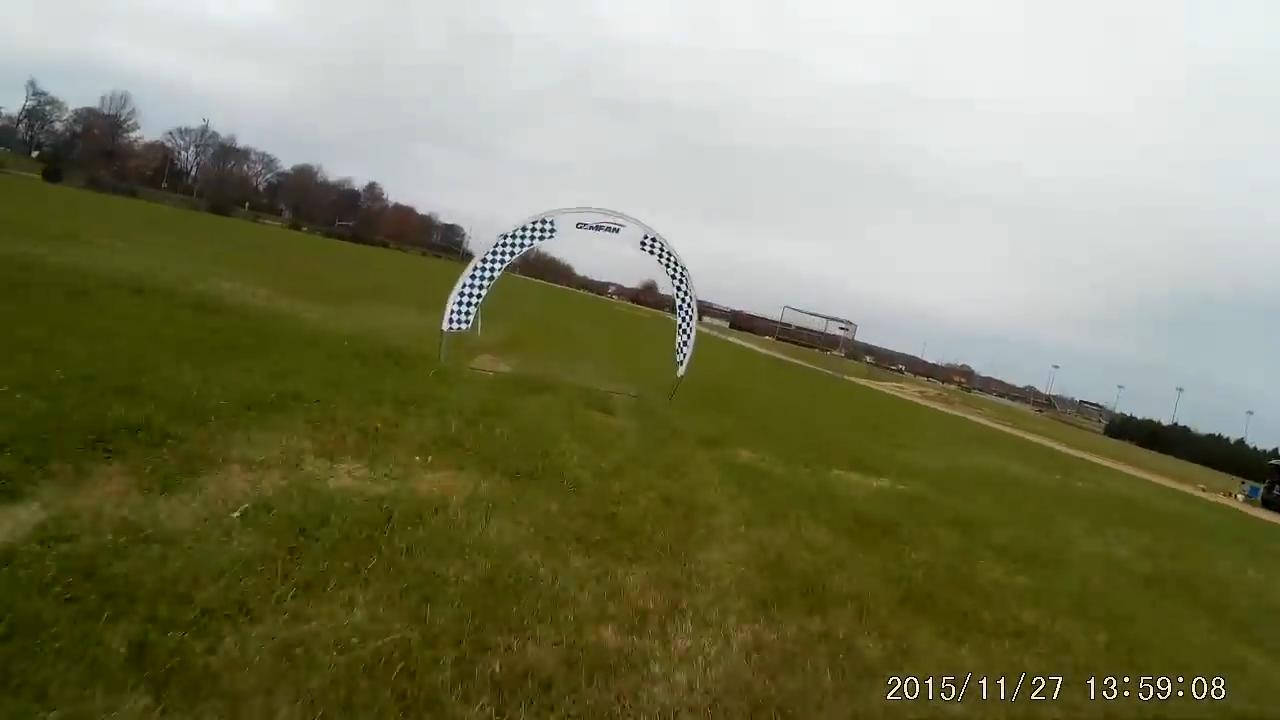gate: (441, 204, 703, 388)
